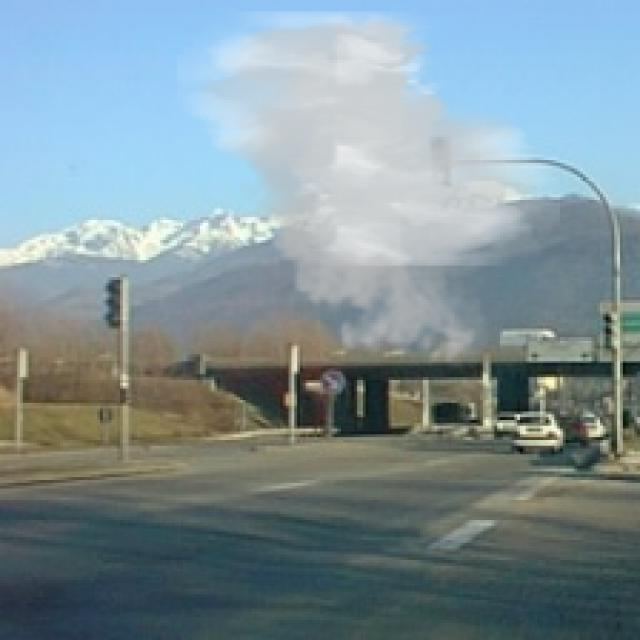smoke: (177, 12, 560, 374)
